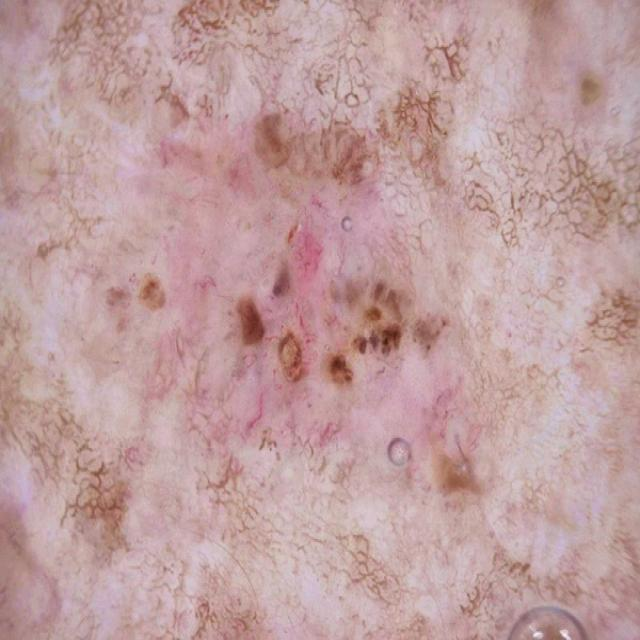Basal-Cell-Carcinoma-BCC-: (93, 73, 543, 542)
